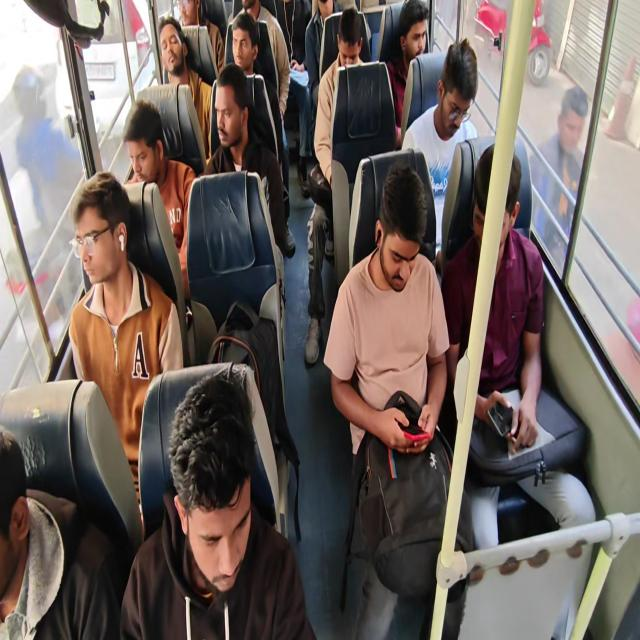person: (149, 399, 271, 640), (0, 410, 80, 640), (370, 176, 450, 326), (66, 178, 150, 314), (120, 111, 186, 200), (155, 25, 212, 104), (209, 82, 257, 174), (477, 184, 517, 277), (434, 85, 478, 160), (222, 16, 263, 87), (399, 2, 440, 70), (335, 19, 369, 86), (232, 0, 280, 41), (281, 0, 309, 67), (177, 0, 204, 39), (310, 0, 351, 19)
